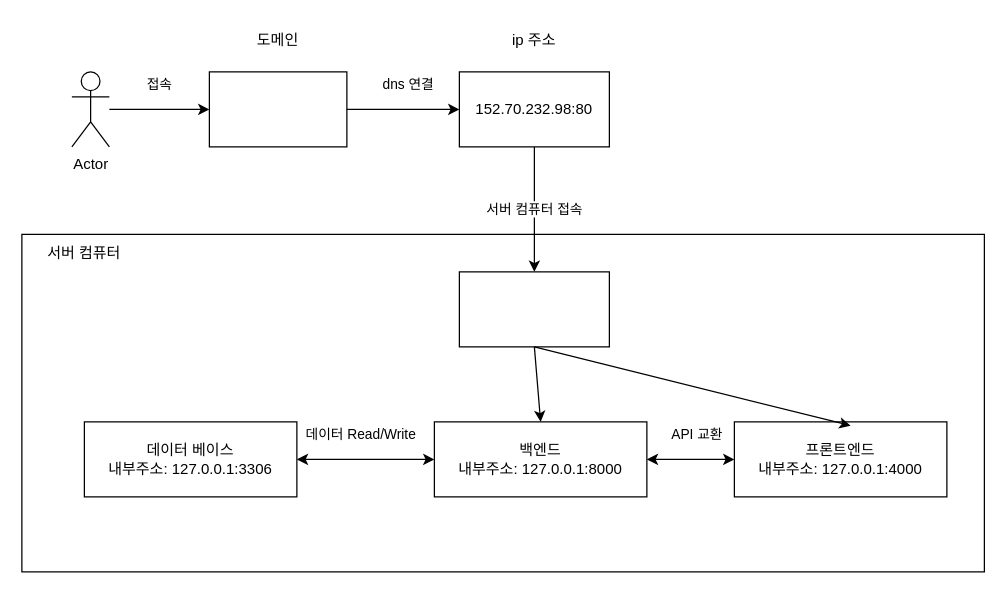
The diagram is 1006 pixels wide and 594 high, and some of its shapes have lost their labels. Each missing label, with the box of its shape:
buildintruss.com: (208, 71, 347, 147)
로드 밸런서: (458, 271, 609, 347)
